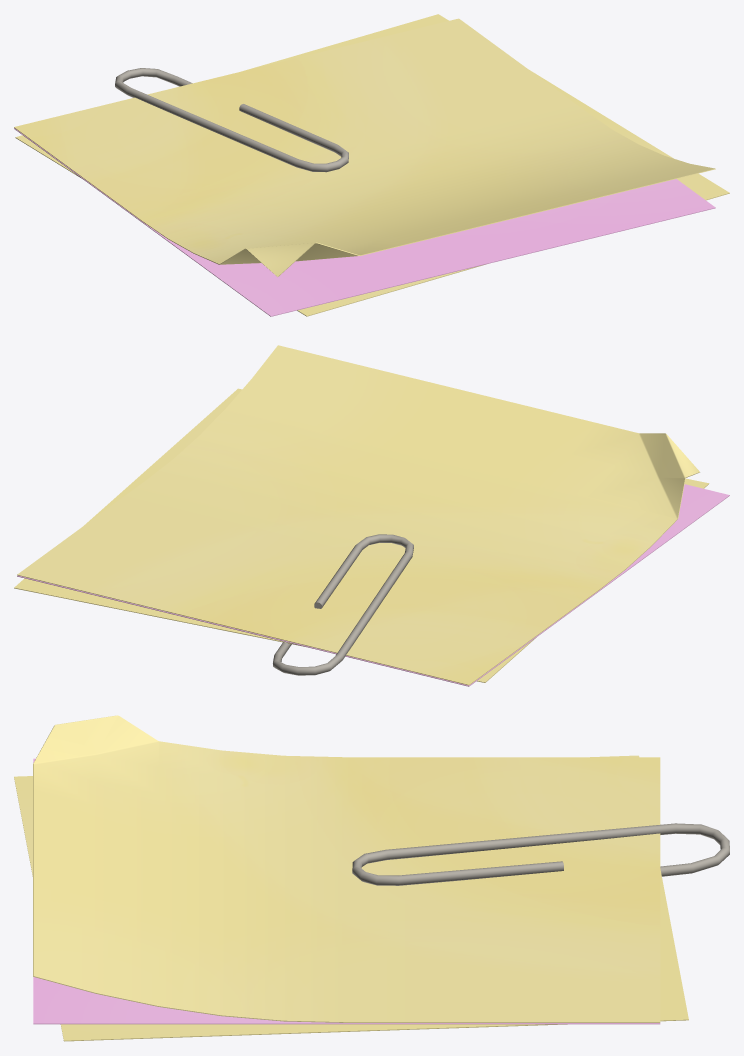
Rendered from ClippedPaper_exp.fbx.
3 views of the same model, one above another, from view 1: azimuth 30°, elevation 25°; view 2: azimuth 150°, elevation 25°; view 3: azimuth 270°, elevation 25° (orthographic). The views are drawn at different scales.
Visible parts, largest first — view 1: Plane.004, Plane.003; view 2: Plane.004, Plane.003; view 3: Plane.004, Plane.003.
Boxes of the visible parts, x1,y1,x2,y2 form: Plane.004: (14, 14, 729, 316); Plane.003: (115, 68, 348, 172); Plane.004: (14, 345, 729, 686); Plane.003: (273, 534, 413, 675); Plane.004: (14, 715, 688, 1041); Plane.003: (352, 823, 729, 885).
Size of the model in its own units: 403 by 51.73 by 427.
